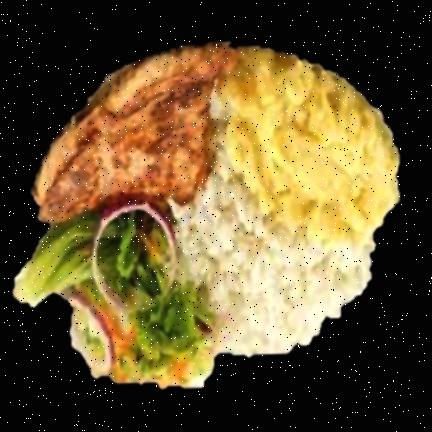chicken: (33, 46, 236, 223)
potato: (34, 45, 236, 223), (219, 49, 399, 244)
rice: (172, 134, 374, 356)
salad: (14, 203, 214, 387)
